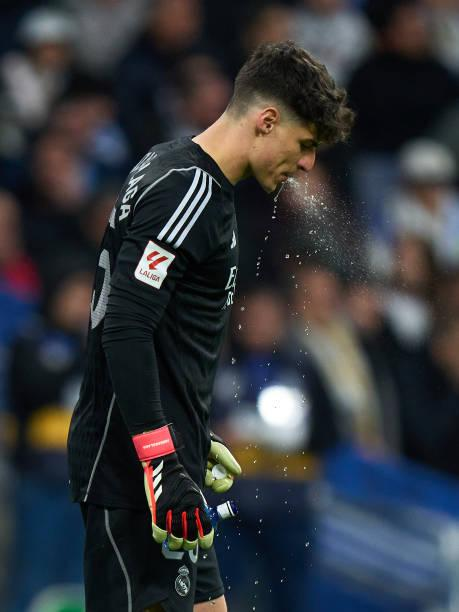Spitting: (203, 43, 367, 220)
